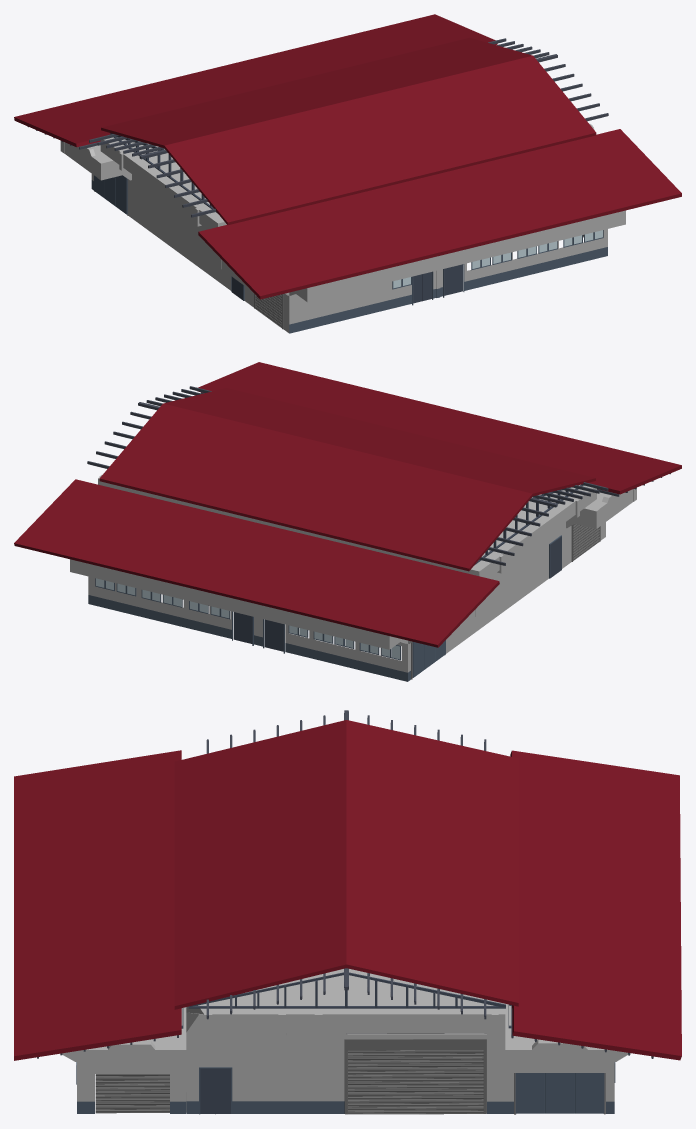
Rendered from ASIVA2_building.glb.
3 views of the same model, one above another, from view 1: azimuth 30°, elevation 25°; view 2: azimuth 150°, elevation 25°; view 3: azimuth 270°, elevation 25° (orthographic). The views are drawn at different scales.
Parts seen in each view (by area): view 1: Cube.046, Cube.043, Plane.007, Cube.044, Plane.032, Plane.012, Plane.055, Plane.048, Plane.056, Plane.057, Cube.016; view 2: Cube.046, Cube.044, Plane.007, Cube.043, Plane.061, Plane.012, Plane.055, Plane.048, Plane.009, Plane.010, Cube.016; view 3: Cube.046, Cube.044, Cube.043, Plane.007, Plane.059, Plane.052, Plane.058, Plane.033, Cube.015, Cube.024, Plane.047, Plane.012.
Boxes of the visible parts, bbox=[...] form: Cube.046: bbox=[101, 37, 596, 225]; Cube.043: bbox=[198, 129, 681, 299]; Plane.007: bbox=[60, 123, 625, 332]; Cube.044: bbox=[14, 14, 497, 147]; Plane.032: bbox=[289, 247, 607, 333]; Plane.012: bbox=[89, 38, 608, 217]; Plane.055: bbox=[94, 175, 127, 214]; Plane.048: bbox=[255, 294, 281, 327]; Plane.056: bbox=[444, 264, 462, 295]; Plane.057: bbox=[413, 272, 431, 303]; Cube.016: bbox=[110, 133, 217, 213]; Cube.046: bbox=[99, 388, 595, 571]; Cube.044: bbox=[14, 479, 499, 647]; Plane.007: bbox=[70, 474, 636, 672]; Cube.043: bbox=[197, 362, 681, 494]; Plane.061: bbox=[88, 595, 410, 681]; Plane.012: bbox=[87, 386, 608, 565]; Plane.055: bbox=[412, 640, 445, 677]; Plane.048: bbox=[573, 524, 599, 560]; Plane.009: bbox=[233, 612, 252, 643]; Plane.010: bbox=[264, 619, 283, 651]; Cube.016: bbox=[475, 485, 583, 564]; Cube.046: bbox=[174, 720, 518, 1009]; Cube.044: bbox=[510, 750, 681, 1060]; Cube.043: bbox=[14, 750, 181, 1060]; Plane.007: bbox=[62, 969, 627, 1112]; Plane.059: bbox=[348, 1050, 483, 1114]; Plane.052: bbox=[515, 1073, 604, 1113]; Plane.058: bbox=[95, 1074, 169, 1113]; Plane.033: bbox=[77, 1101, 614, 1113]; Cube.015: bbox=[188, 972, 505, 1008]; Cube.024: bbox=[344, 1039, 486, 1114]; Plane.047: bbox=[200, 1068, 230, 1114]; Plane.012: bbox=[206, 710, 486, 1019].
Bounding box in the file's own units: 32.46 × 9.02 × 32.66.
